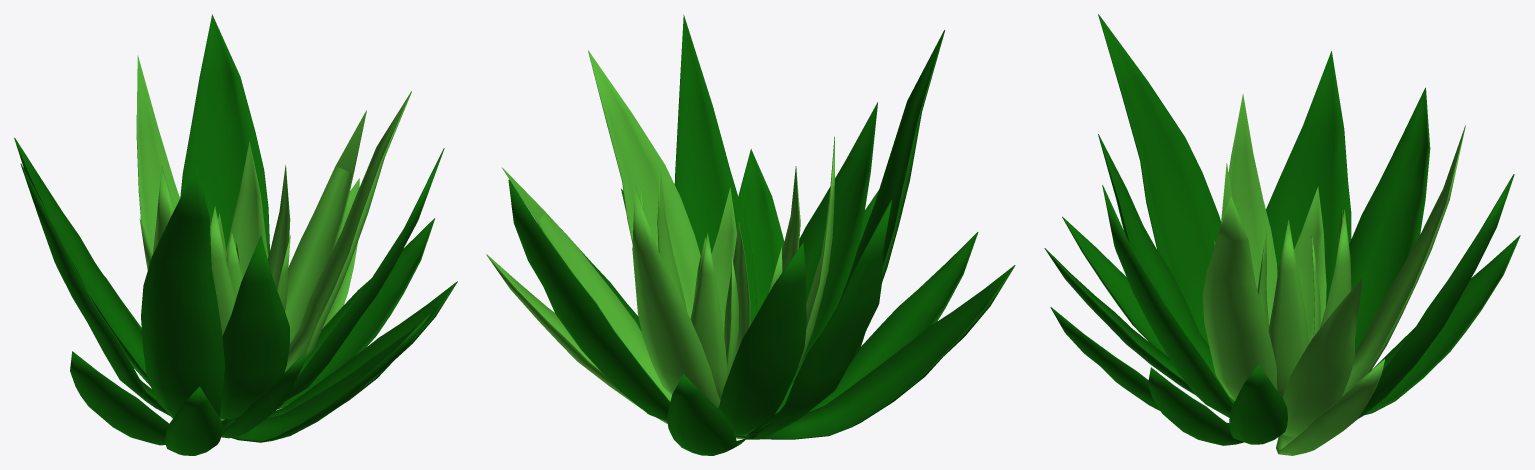
The model's file is bush1.fbx.
The picture shows the model from 3 angles, left to right: view 1: azimuth 30°, elevation 25°; view 2: azimuth 150°, elevation 25°; view 3: azimuth 270°, elevation 25°; orthographic projection. The views are drawn at different scales.
Parts seen in each view (by area): view 1: Sphere.047, Sphere.046, Sphere.043, Sphere.050, Sphere.042, Sphere.041, Sphere.053, Sphere.056, Sphere.048, Sphere.059, Sphere.044, Sphere.049 (+10 smaller); view 2: Sphere.041, Sphere.049, Sphere.046, Sphere.059, Sphere.042, Sphere.048, Sphere.044, Sphere.043, Sphere.058, Sphere.047, Sphere.050, Sphere.056 (+9 smaller); view 3: Sphere.047, Sphere.041, Sphere.048, Sphere.042, Sphere.050, Sphere.049, Sphere.046, Sphere.044, Sphere.045, Sphere.051, Sphere.043, Sphere.034 (+10 smaller).
Boxes of the visible parts, x1=… form: Sphere.047: x1=141, y1=166, x2=225, y2=418; Sphere.046: x1=180, y1=14, x2=269, y2=256; Sphere.043: x1=219, y1=235, x2=289, y2=418; Sphere.050: x1=220, y1=110, x2=366, y2=421; Sphere.042: x1=284, y1=91, x2=411, y2=372; Sphere.041: x1=14, y1=137, x2=147, y2=380; Sphere.053: x1=277, y1=218, x2=434, y2=409; Sphere.056: x1=231, y1=314, x2=430, y2=442; Sphere.048: x1=20, y1=163, x2=169, y2=415; Sphere.059: x1=70, y1=351, x2=169, y2=445; Sphere.044: x1=136, y1=55, x2=179, y2=253; Sphere.049: x1=221, y1=148, x2=444, y2=424; Sphere.041: x1=718, y1=242, x2=806, y2=436; Sphere.049: x1=674, y1=14, x2=757, y2=438; Sphere.046: x1=508, y1=179, x2=746, y2=437; Sphere.059: x1=761, y1=265, x2=1015, y2=439; Sphere.042: x1=588, y1=50, x2=700, y2=318; Sphere.048: x1=746, y1=200, x2=891, y2=439; Sphere.044: x1=632, y1=187, x2=720, y2=408; Sphere.043: x1=790, y1=102, x2=877, y2=384; Sphere.058: x1=746, y1=232, x2=978, y2=436; Sphere.047: x1=746, y1=30, x2=944, y2=436; Sphere.050: x1=502, y1=167, x2=744, y2=438; Sphere.056: x1=738, y1=149, x2=784, y2=312; Sphere.047: x1=1098, y1=14, x2=1221, y2=344; Sphere.041: x1=1349, y1=87, x2=1430, y2=350; Sphere.048: x1=1266, y1=51, x2=1351, y2=305; Sphere.042: x1=1202, y1=196, x2=1277, y2=400; Sphere.050: x1=1282, y1=278, x2=1362, y2=436; Sphere.049: x1=1102, y1=185, x2=1233, y2=417; Sphere.046: x1=1358, y1=174, x2=1514, y2=418; Sphere.044: x1=1342, y1=125, x2=1465, y2=396; Sphere.045: x1=1228, y1=94, x2=1277, y2=326; Sphere.051: x1=1364, y1=235, x2=1520, y2=415; Sphere.043: x1=1098, y1=134, x2=1234, y2=403; Sphere.034: x1=1268, y1=220, x2=1308, y2=397.
Bounding box in the file's own units: 166 × 137 × 161.
